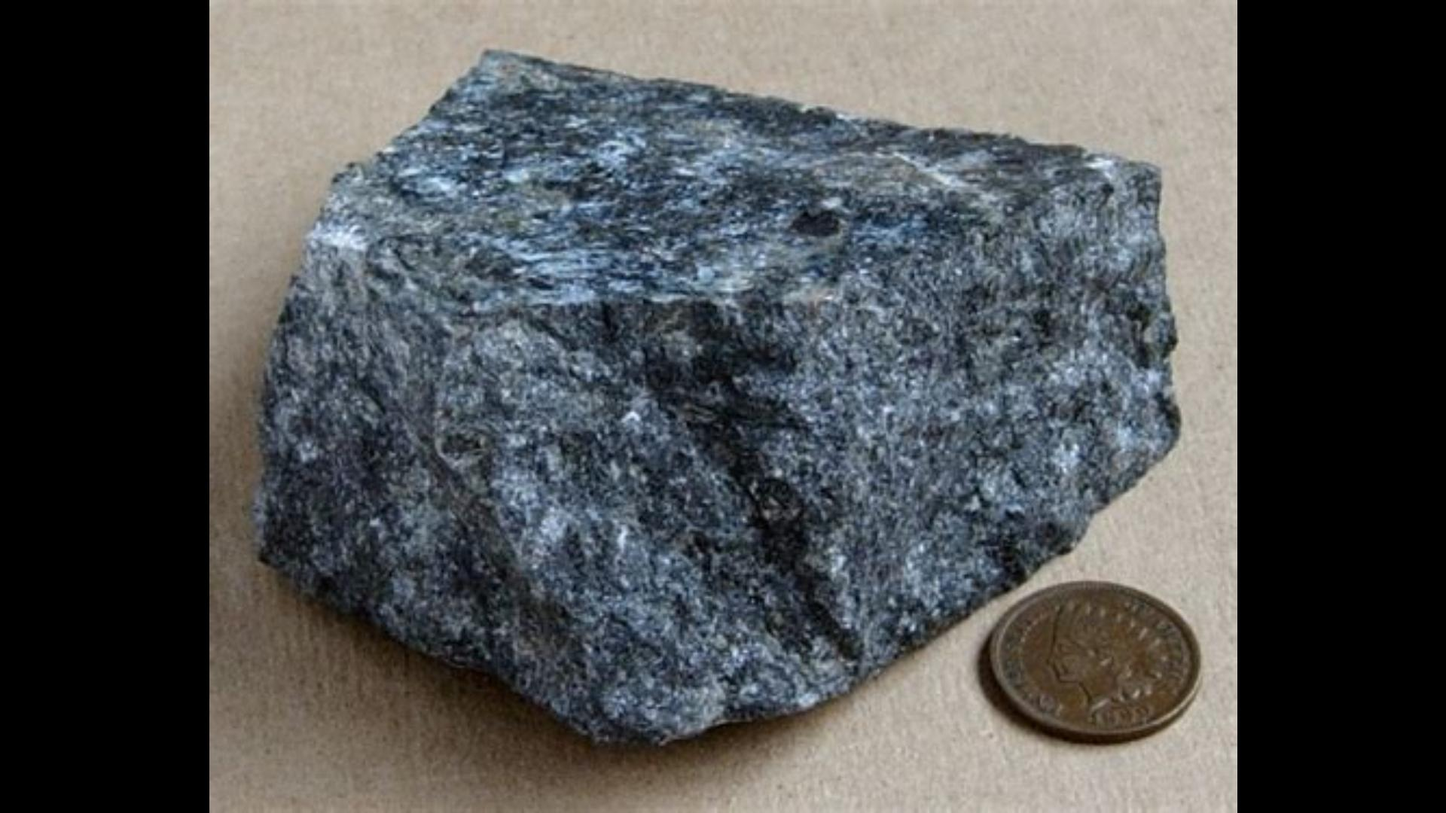rock: (256, 52, 1172, 739)
